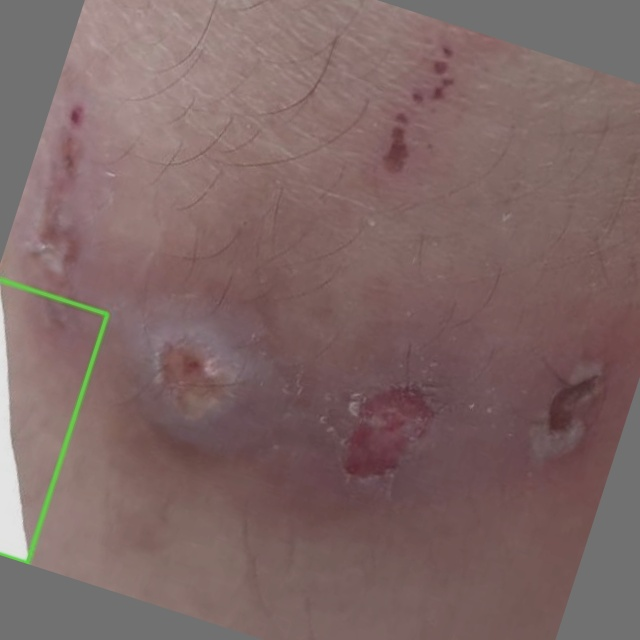Contact Dermatitis: (0, 279, 107, 563)
